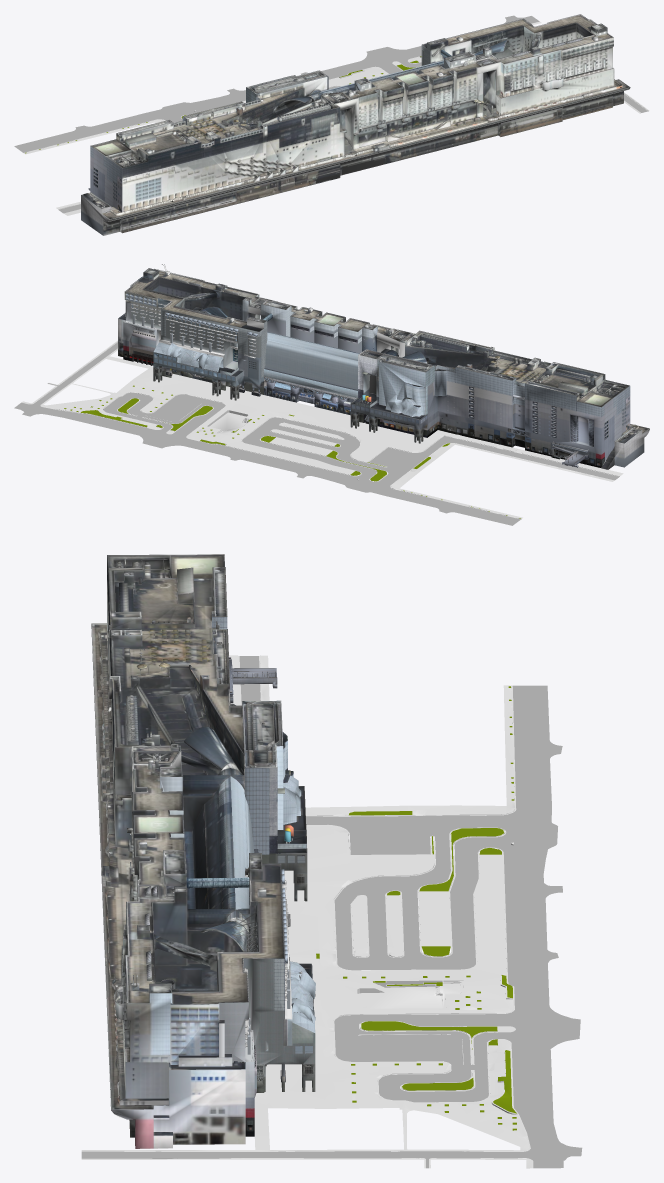
File: kyoto-station.glb
The picture shows the model from 3 angles, top to bottom: view 1: azimuth 30°, elevation 25°; view 2: azimuth 150°, elevation 25°; view 3: azimuth 270°, elevation 25°; orthographic projection. The views are drawn at different scales.
Size of the model in its own units: 503 by 71.97 by 208.
Materials: 11 (7 with a texture image).
